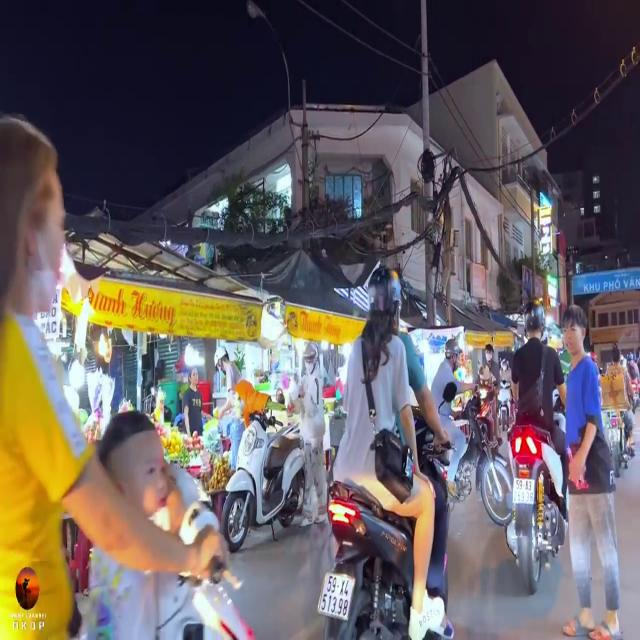bien_trang: (318, 573, 354, 622), (514, 478, 532, 504)
